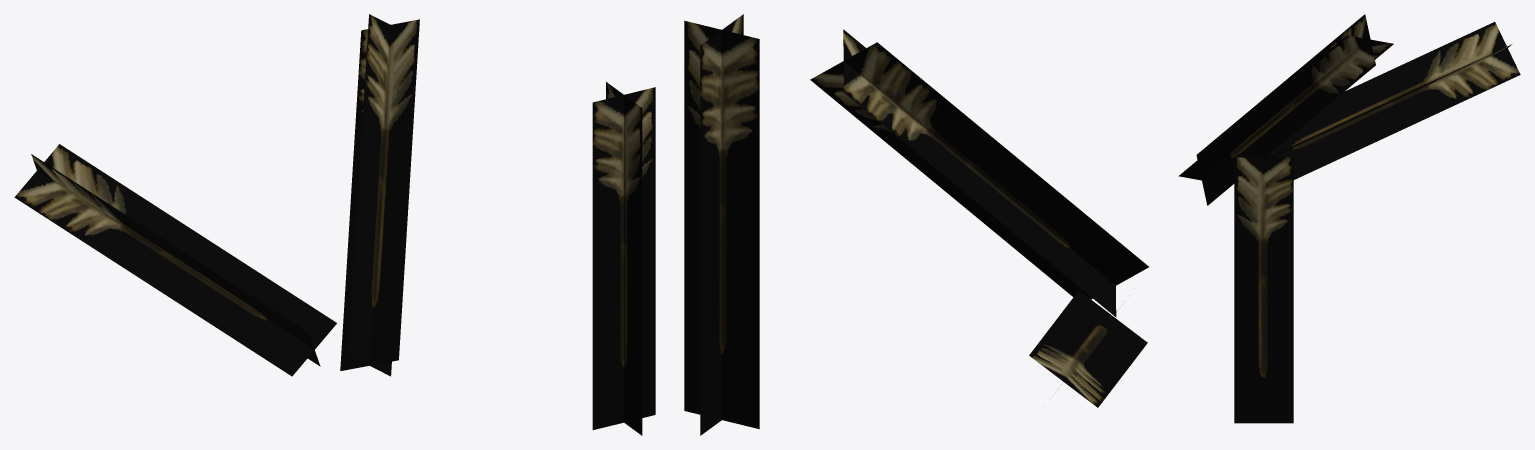
File: dwarvern_arrows_02.fbx
3 views of the same model, side by side, from view 1: azimuth 30°, elevation 25°; view 2: azimuth 150°, elevation 25°; view 3: azimuth 270°, elevation 25° (orthographic). The views are drawn at different scales.
Visible parts, largest first — view 1: dwarvern_arrows02; view 2: dwarvern_arrows02; view 3: dwarvern_arrows02.
Part boxes in pixels (x1,y1,x2,y2): dwarvern_arrows02: (14, 14, 655, 435); dwarvern_arrows02: (684, 14, 1148, 435); dwarvern_arrows02: (1178, 14, 1520, 423).
Bounding box in the file's own units: 1.2 × 0.9506 × 0.8854.
